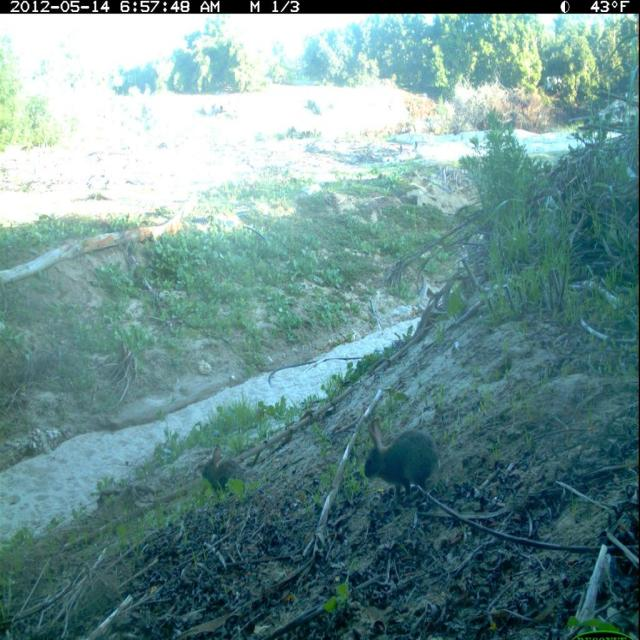rabbit: (362, 418, 446, 512), (199, 438, 249, 503)
